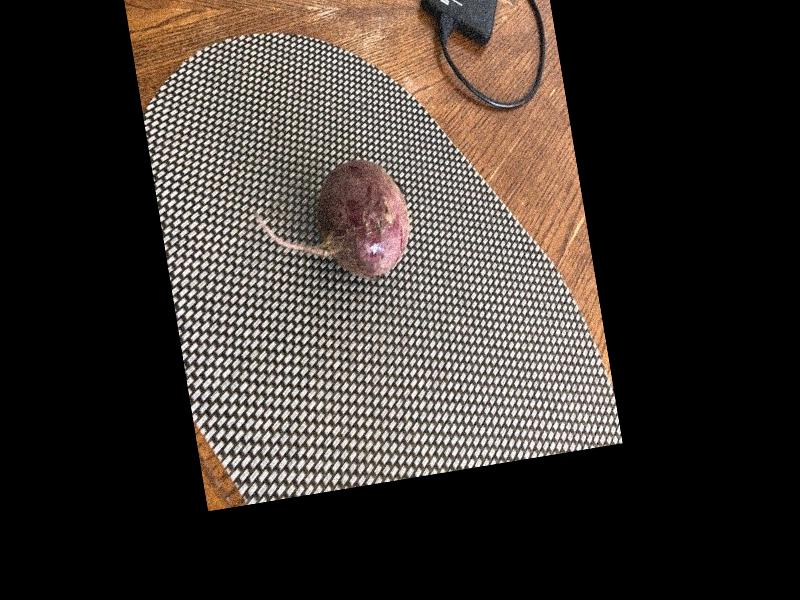Beet: (247, 154, 416, 294)
